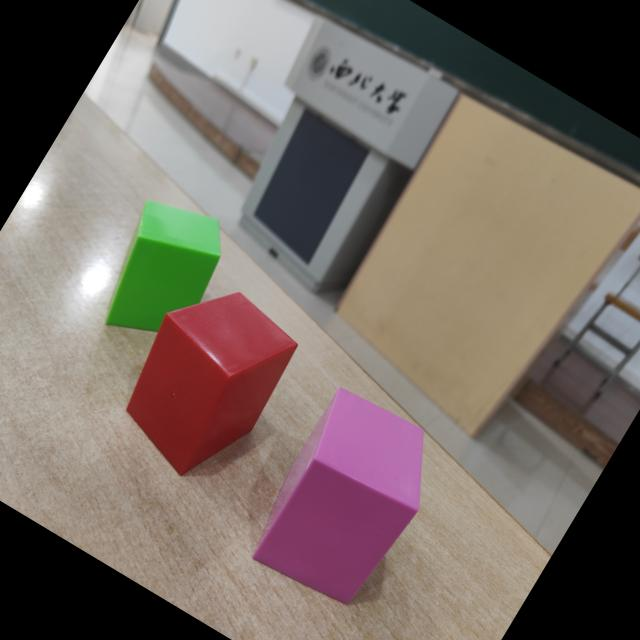green: (104, 202, 221, 335)
pink: (250, 389, 423, 606)
red: (124, 293, 298, 478)
